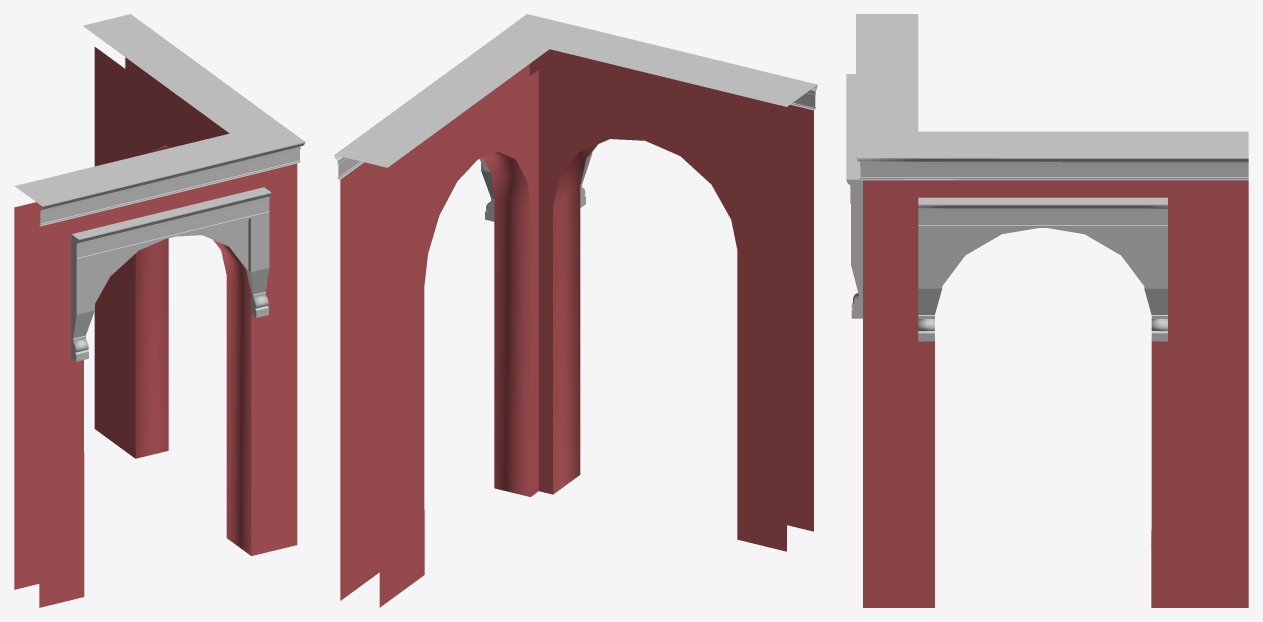
Rendered from station_entrance_corner.fbx.
3 views of the same model, side by side, from view 1: azimuth 30°, elevation 25°; view 2: azimuth 150°, elevation 25°; view 3: azimuth 270°, elevation 25° (orthographic). The views are drawn at different scales.
Visible parts, largest first — view 1: entrance_corner; view 2: entrance_corner; view 3: entrance_corner.
Part boxes in pixels (x1,y1,x2,y2): entrance_corner: [14, 14, 305, 607]; entrance_corner: [334, 14, 817, 607]; entrance_corner: [846, 14, 1248, 607].
Bounding box in the file's own units: 2.53 × 3.6 × 2.9.
